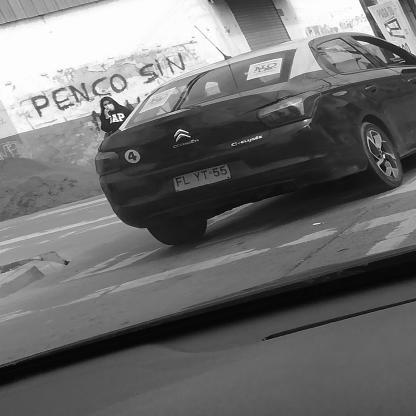Patente: (170, 161, 234, 193)
